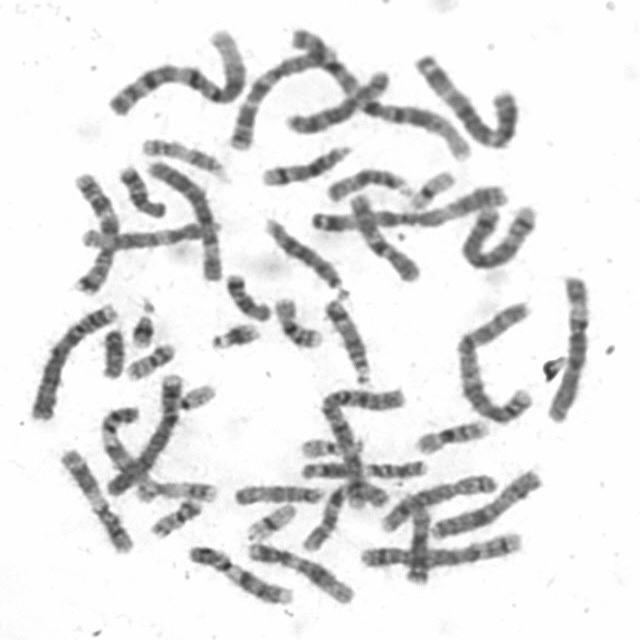A1: (281, 21, 476, 162), (99, 21, 249, 118)
A2: (311, 378, 410, 513), (449, 292, 540, 427)
A3: (303, 176, 512, 236), (406, 45, 522, 152)
B4: (21, 296, 122, 422), (97, 365, 187, 499)
B5: (351, 524, 526, 571), (452, 197, 540, 271)
C10: (343, 185, 424, 284), (295, 474, 391, 553)
C11: (51, 442, 136, 556), (293, 452, 431, 482)
C12: (238, 535, 358, 606), (72, 211, 221, 252)
C6: (139, 153, 225, 284), (537, 266, 595, 425)
C7: (220, 30, 339, 152), (63, 165, 122, 298)
C8: (276, 62, 394, 137), (372, 466, 501, 534)
C9: (179, 538, 295, 608), (94, 399, 158, 500)
D13: (256, 210, 350, 298), (398, 493, 433, 587)
D14: (317, 291, 375, 386), (253, 137, 354, 188)
D15: (319, 160, 415, 204), (227, 477, 329, 508)
E16: (407, 411, 493, 457), (267, 289, 326, 350)
E17: (134, 130, 231, 181), (128, 472, 221, 505)
E18: (111, 158, 169, 219), (218, 266, 274, 322)
F19: (398, 163, 459, 212), (238, 496, 299, 542)
F20: (142, 490, 205, 540), (118, 334, 179, 382)
G21: (201, 314, 263, 352), (123, 306, 158, 350)
G22: (166, 376, 219, 412), (294, 430, 357, 460)
X: (421, 462, 546, 542)
Y: (93, 322, 128, 381)
